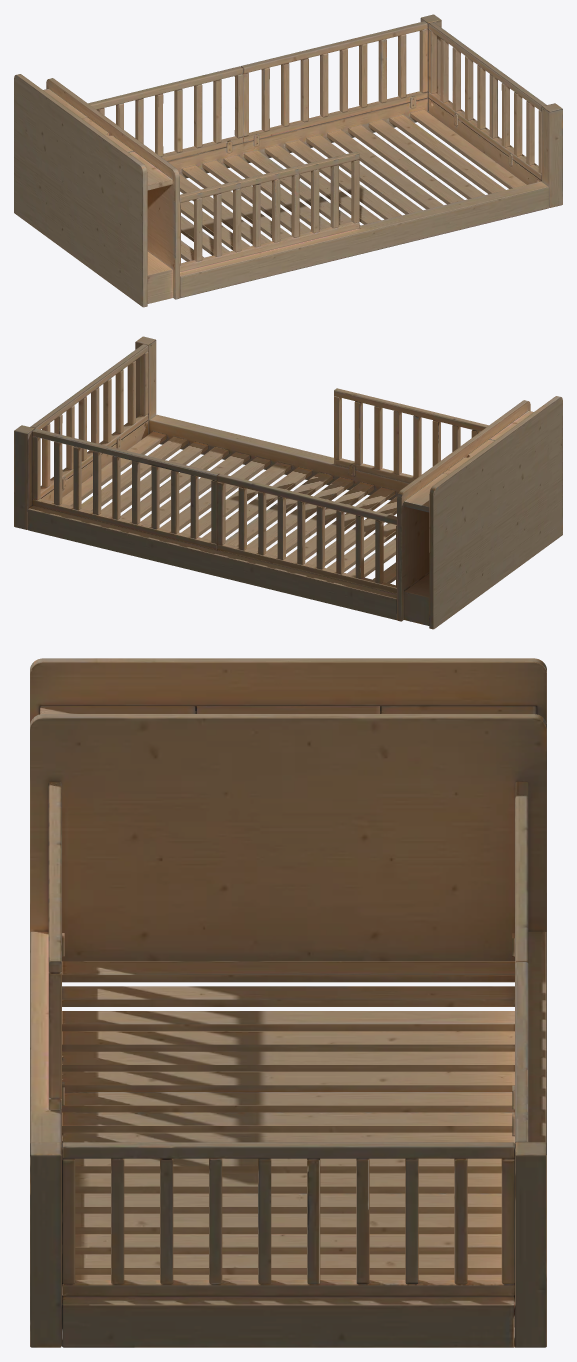
The picture shows the model from 3 angles, top to bottom: view 1: azimuth 30°, elevation 25°; view 2: azimuth 150°, elevation 25°; view 3: azimuth 270°, elevation 25°; orthographic projection. The views are drawn at different scales.
Visible parts, largest first — view 1: 160x80; view 2: 160x80; view 3: 160x80.
Part boxes in pixels (x1,y1,x2,y2): 160x80: (14, 14, 562, 307); 160x80: (14, 336, 562, 629); 160x80: (30, 658, 546, 1347).
Bounding box in the file's own units: 1.82 × 0.58 × 0.97.
1 material, 1 textured.
